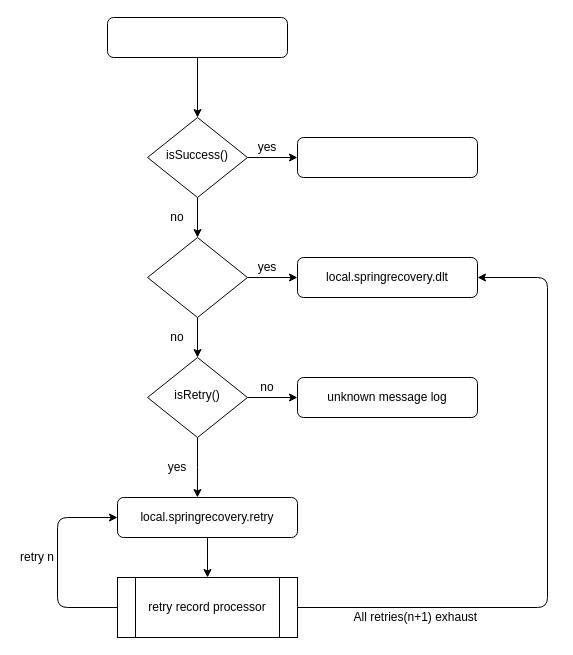
Some shapes in this 573 by 655 pixel diagram are drawn without their labels. Here are the shapes that lost their labels. From the top down, the centre of each, then its label:
At point 197,37: "local.springrecovery.bootstrap".
At point 387,157: "successfully consumed".
At point 197,277: "isPoisonPill()".
